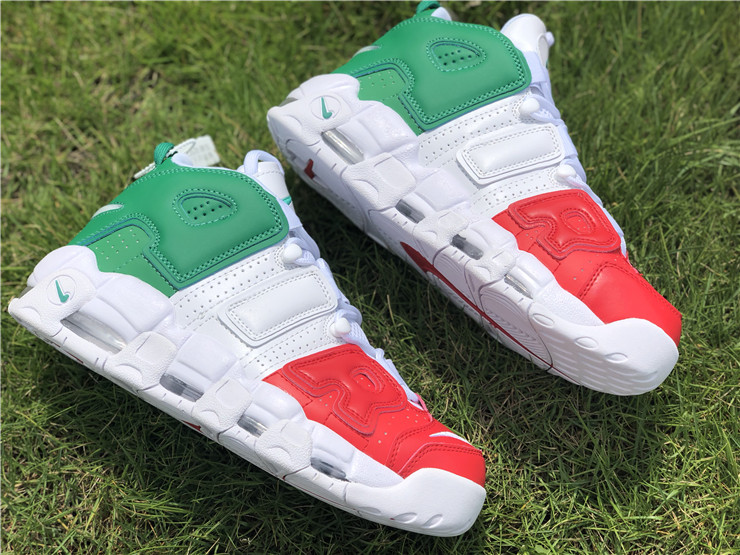Nike Air Uptempo '96 Italy: (5, 110, 496, 545), (259, 1, 695, 402)
